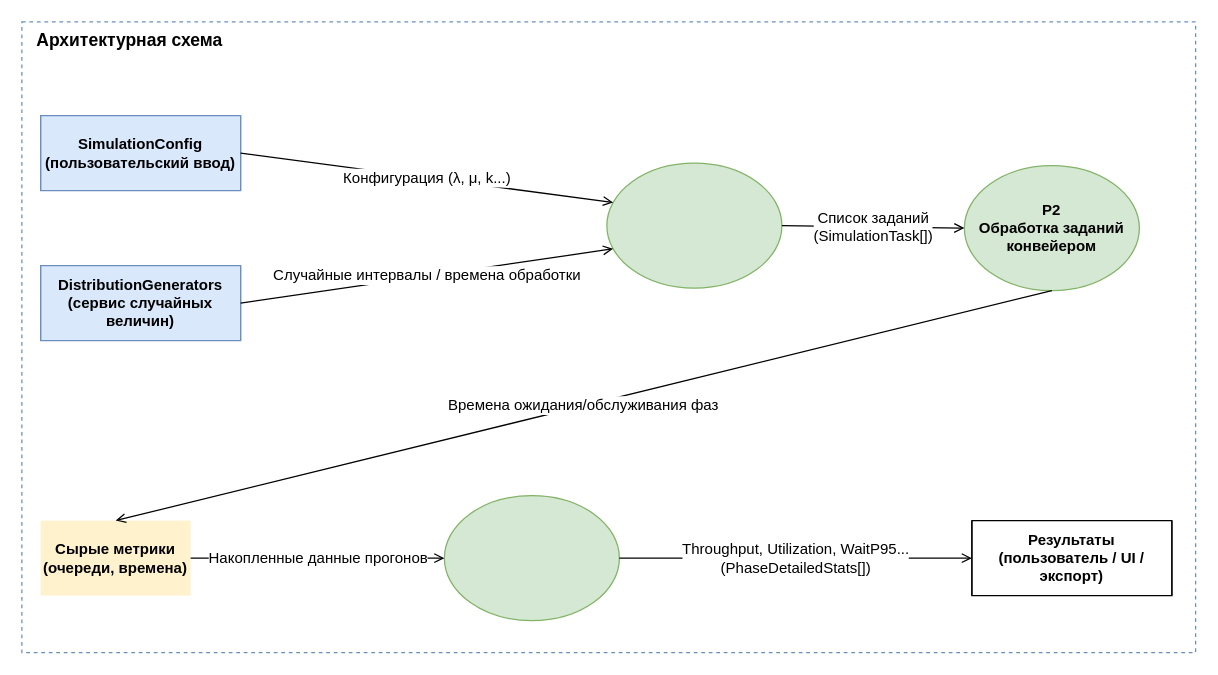
The diagram is 1218 pixels wide and 675 high, and some of its shapes have lost their labels. Each missing label, with the centre of its shape:
P1 Генерация заданий и инициализация: point (694, 225)
P3 Сбор и агрегация статистики: point (531, 557)
